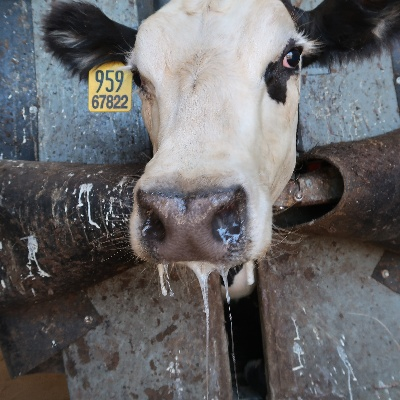fidget_spinner: (128, 185, 252, 268)
